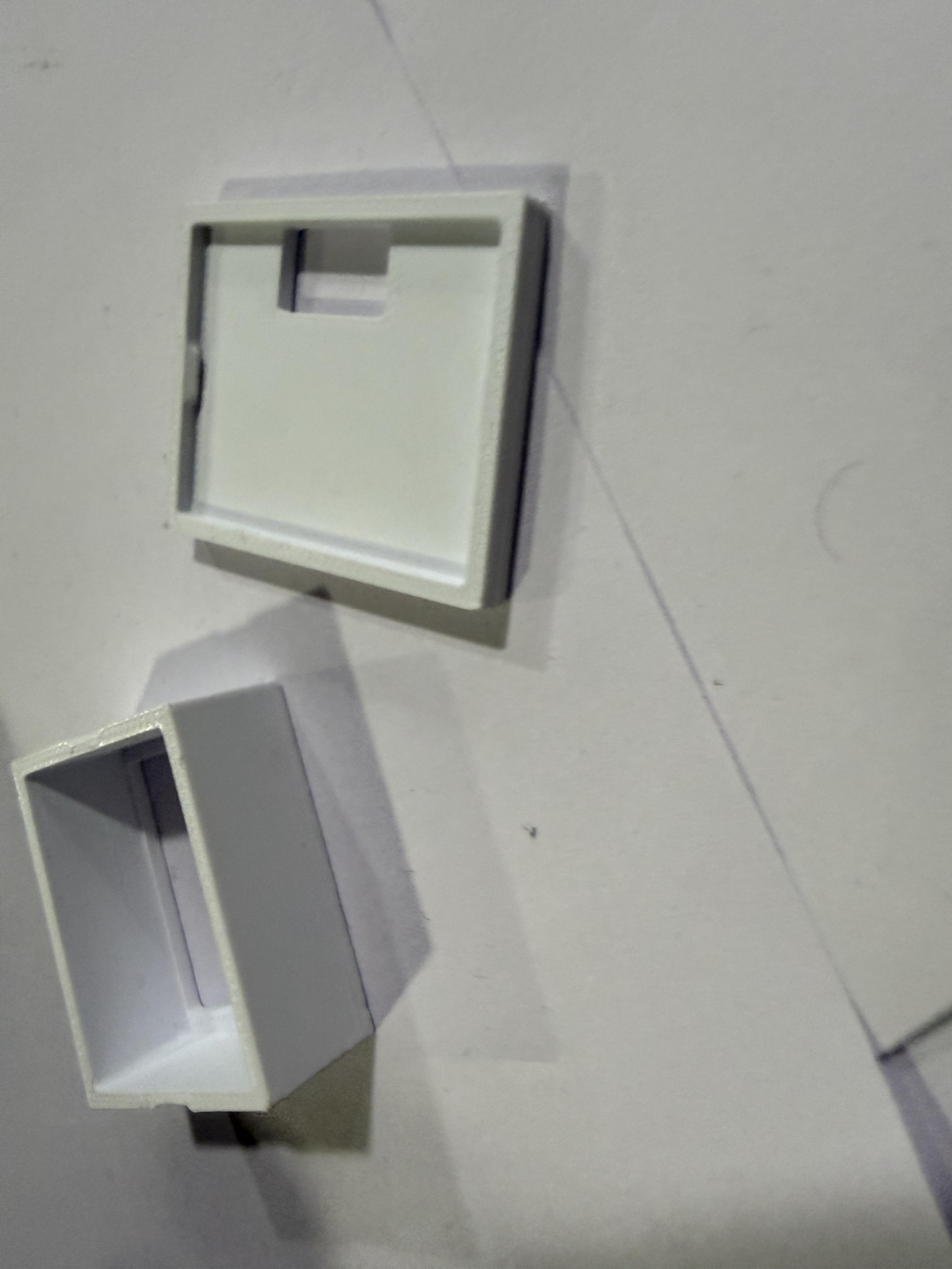enclosure: (9, 677, 377, 1119), (173, 189, 547, 612)
